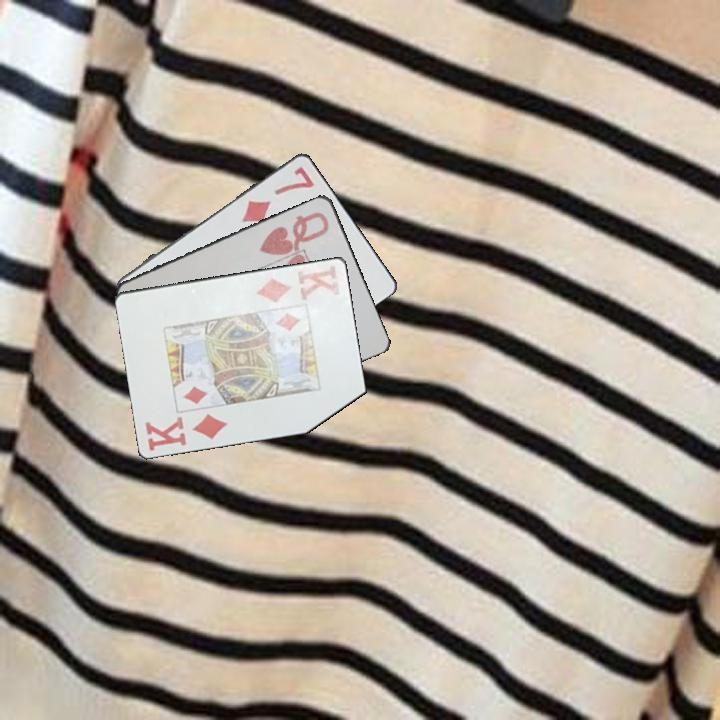7d: (238, 163, 317, 225)
Kd: (253, 261, 343, 306), (142, 410, 231, 453)
Qh: (256, 208, 332, 259)
